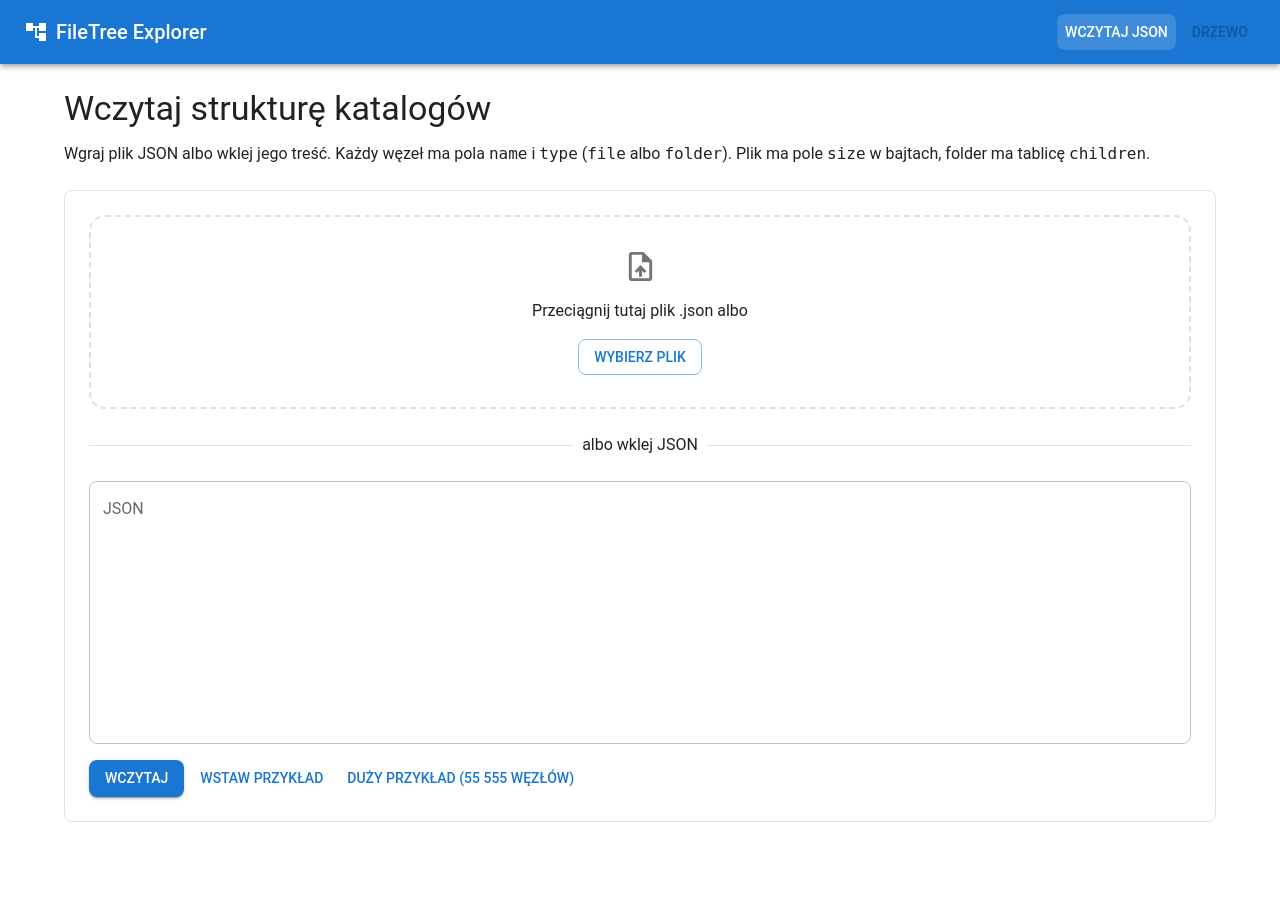
HomePage › inserts the example JSON into the text field
Click the button "Wstaw przykład".
click(262, 779)  # box [192,760,331,797]
(page scrolled)
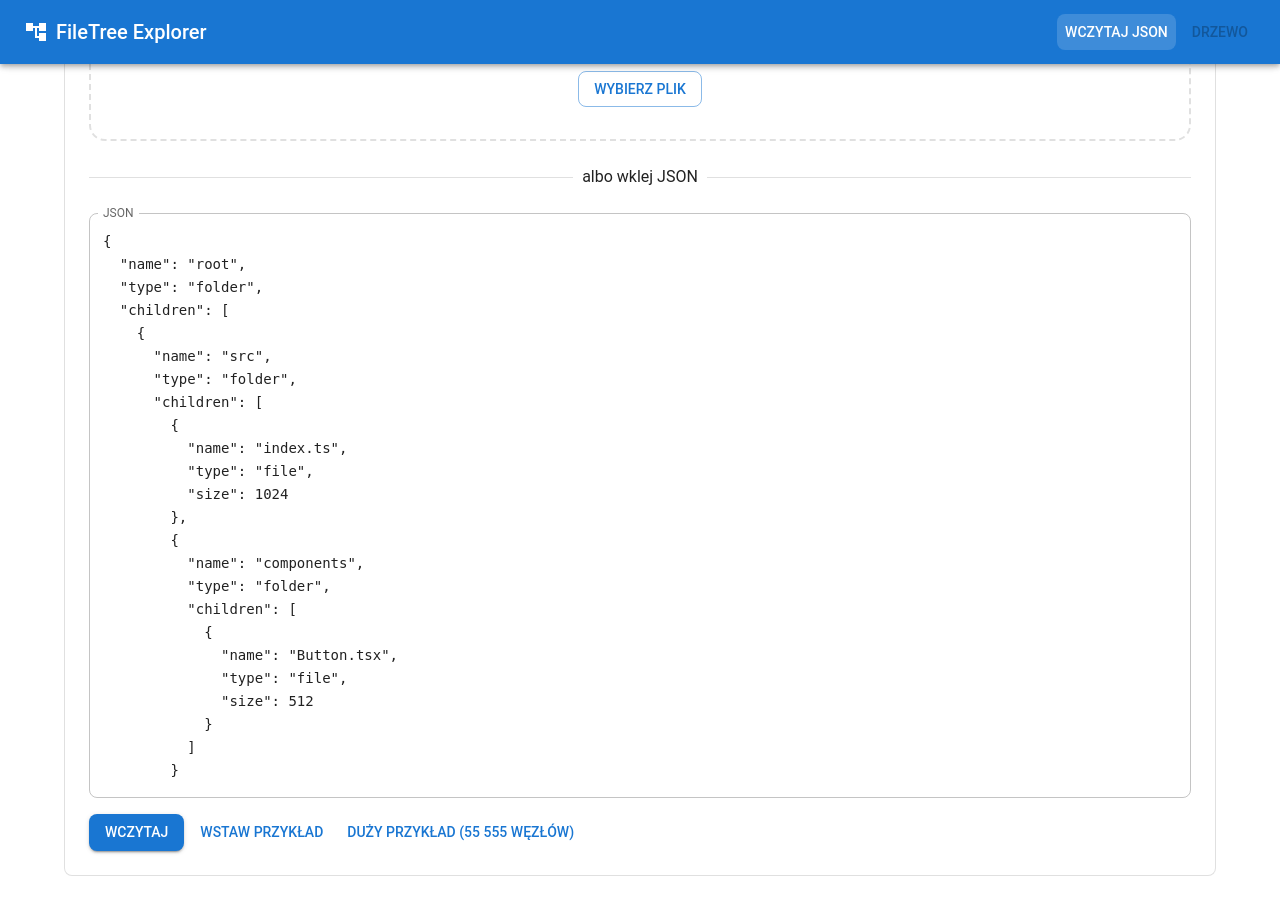
Now the text box labelled "JSON" holds "{   \"name\": \"root\",   \"type\": \"folder\",   \"children\": [     {       \"name\": \"src\",       \"type\": \"folder\",       \"children\": [         {           \"name\": \"inde", box [103,230,1177,782]
